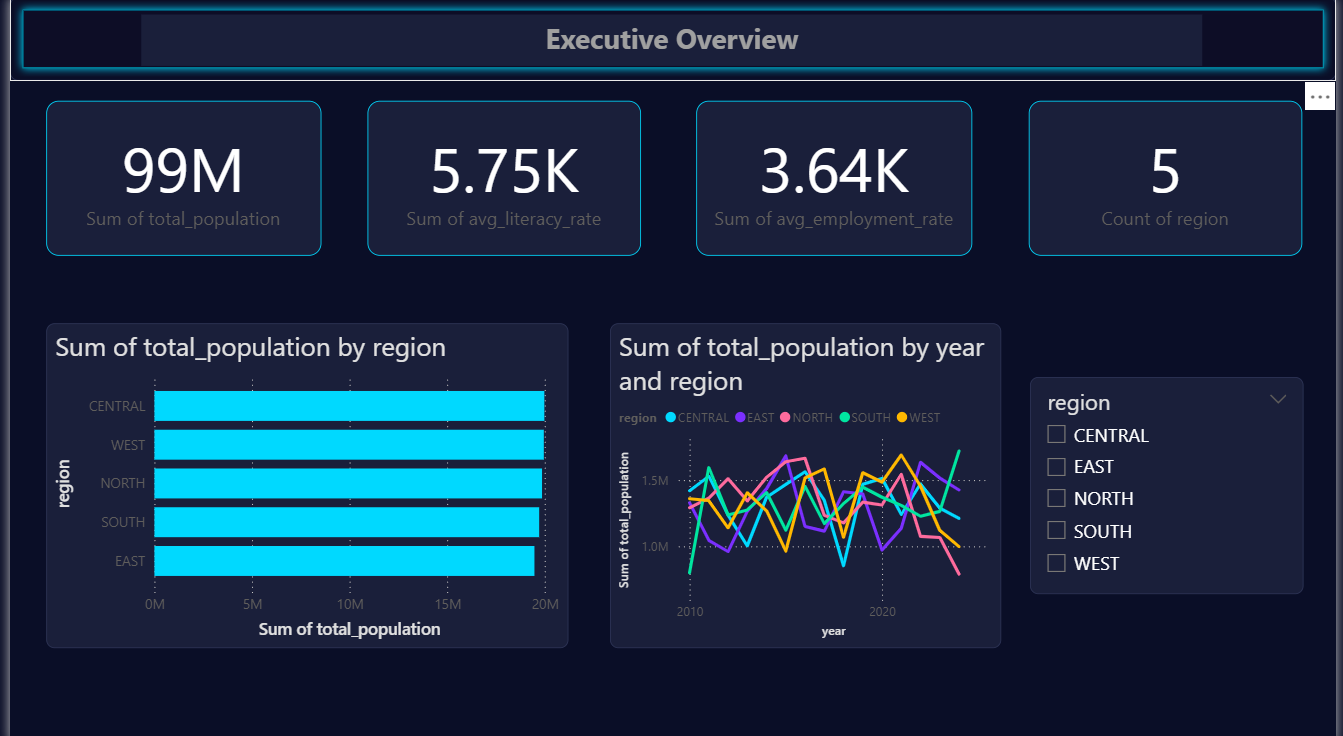

What the dashboard file says about the page in this screenshot:
{"tool":"powerbi","page":{"name":"Page 1","canvas":[1280,720],"ordinal":0},"visuals":[{"type":"shape","box":[0,0,1280,80.8],"z":0},{"type":"textbox","box":[126.7,16.9,1024.3,49.5],"z":1000},{"type":"card","fields":{"Values":["Sum(gold_population_by_region.total_population)"]},"box":[35,100.1,265.4,149.6],"z":2000},{"type":"card","fields":{"Values":["Sum(gold_literacy_rate.avg_literacy_rate)"]},"box":[345,100.1,264.2,149.6],"z":3000},{"type":"card","fields":{"Values":["Sum(gold_employment_rate.avg_employment_rate)"]},"box":[662.3,100.1,266.6,149.6],"z":4000},{"type":"card","fields":{"Values":["Count(gold_population_by_region.region)"]},"box":[983.2,100.1,264.2,149.6],"z":5000},{"type":"clusteredBarChart","fields":{"Category":["gold_population_by_region.region"],"Y":["Sum(gold_population_by_region.total_population)"]},"box":[35,314.9,504.3,313.7],"z":6000},{"type":"lineChart","fields":{"Category":["gold_population_by_region.year"],"Y":["Sum(gold_population_by_region.total_population)"],"Series":["gold_population_by_region.region"]},"box":[579.1,314.9,377.6,313.7],"z":7000},{"type":"slicer","fields":{"Values":["gold_population_by_region.region"]},"box":[984.5,366.8,264.2,209.9],"z":8000}]}

Visuals, with their boxes in screenshot pixels (x1, y1, x2, y2), scaled from the page's 1280x720 canvas onto the 1343x736 screenshot:
shape: l=0, t=0, r=1342, b=83
textbox: l=133, t=17, r=1208, b=68
card - Sum(gold_population_by_region.total_population): l=37, t=102, r=315, b=255
card - Sum(gold_literacy_rate.avg_literacy_rate): l=362, t=102, r=639, b=255
card - Sum(gold_employment_rate.avg_employment_rate): l=695, t=102, r=975, b=255
card - Count(gold_population_by_region.region): l=1032, t=102, r=1309, b=255
clusteredBarChart - gold_population_by_region.region x Sum(gold_population_by_region.total_population): l=37, t=322, r=566, b=643
lineChart - gold_population_by_region.year x Sum(gold_population_by_region.total_population): l=608, t=322, r=1004, b=643
slicer - gold_population_by_region.region: l=1033, t=375, r=1310, b=590
